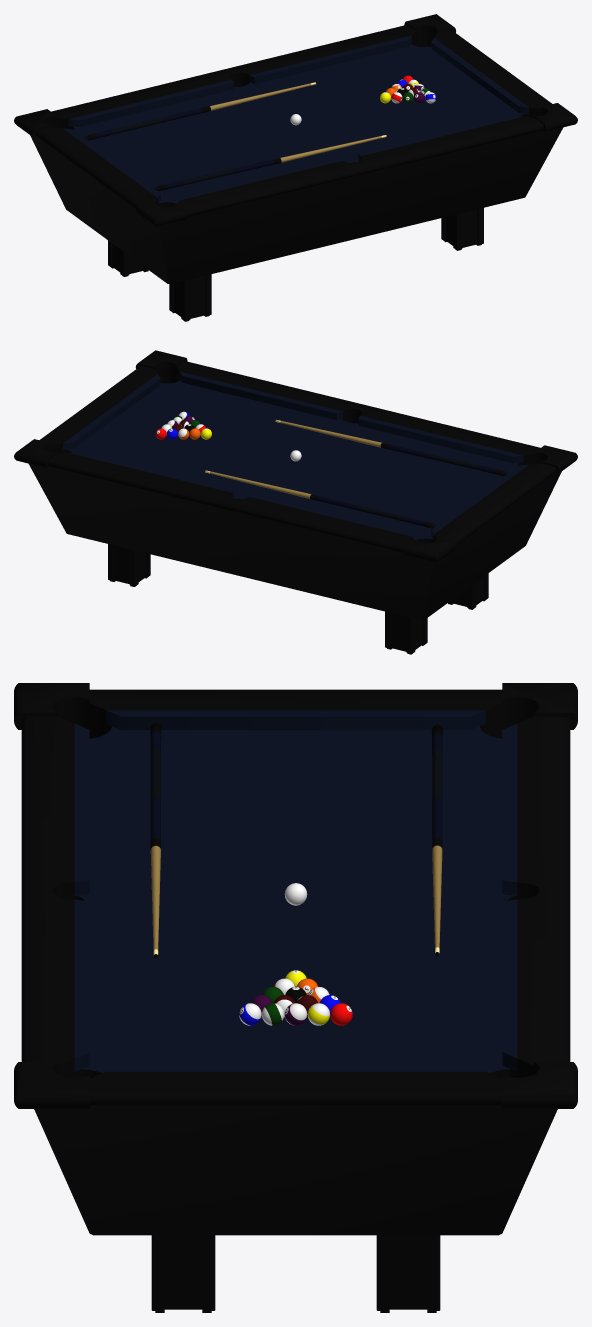
The model's file is pool.obj.
3 views of the same model, one above another, from view 1: azimuth 30°, elevation 25°; view 2: azimuth 150°, elevation 25°; view 3: azimuth 270°, elevation 25° (orthographic). The views are drawn at different scales.
Visible parts, largest first — view 1: pool, legs, cue2, cue1; view 2: pool, legs, cue2, cue1; view 3: pool, legs, cue2, cue1.
Boxes of the visible parts, left/top/right/bottom form: pool: left=14, top=14, right=577, bottom=284; legs: left=108, top=208, right=483, bottom=321; cue2: left=154, top=135, right=386, bottom=191; cue1: left=84, top=82, right=316, bottom=140; pool: left=14, top=350, right=577, bottom=620; legs: left=108, top=544, right=488, bottom=654; cue2: left=275, top=419, right=507, bottom=476; cue1: left=204, top=470, right=436, bottom=528; pool: left=14, top=683, right=577, bottom=1235; legs: left=151, top=1235, right=440, bottom=1312; cue2: left=150, top=722, right=161, bottom=957; cue1: left=431, top=724, right=442, bottom=955.
Size of the model in its own units: 2.6 by 0.83 by 1.5.
